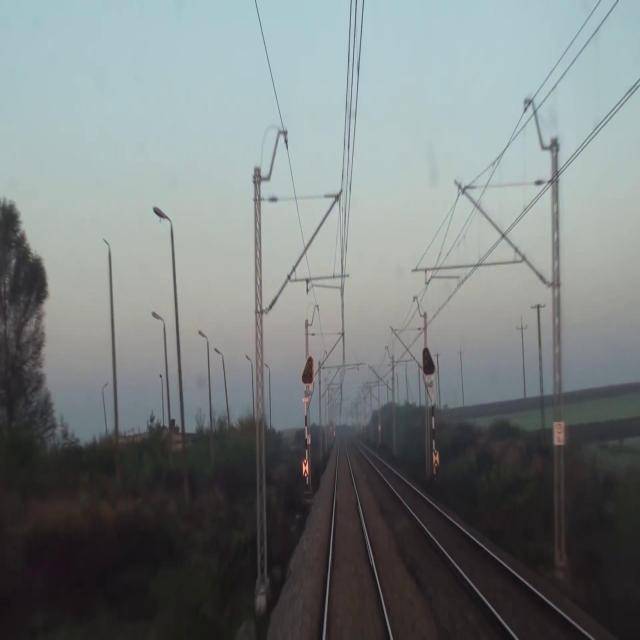rail-track: (376, 461, 584, 639), (327, 442, 387, 639)
